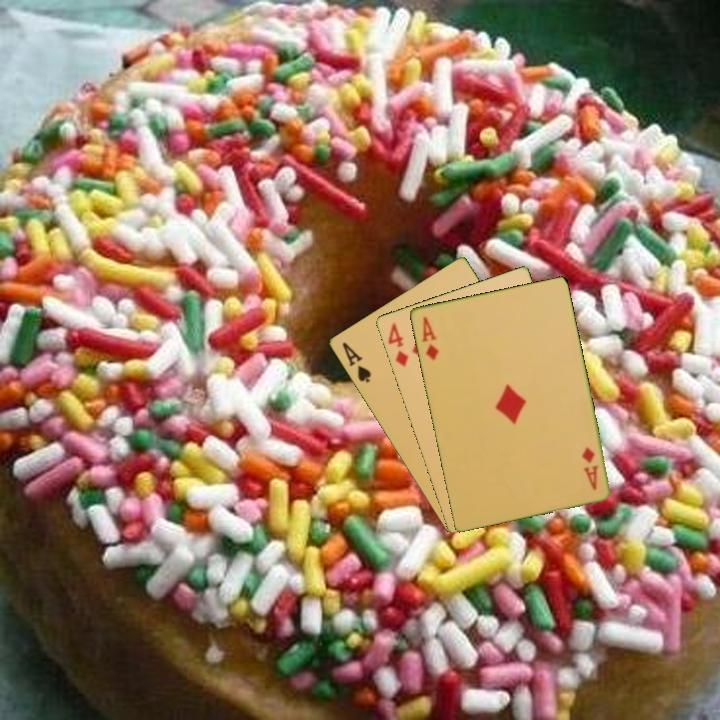4d: (384, 319, 411, 370)
Ad: (418, 313, 441, 363), (578, 443, 601, 493)
As: (338, 338, 374, 386)
